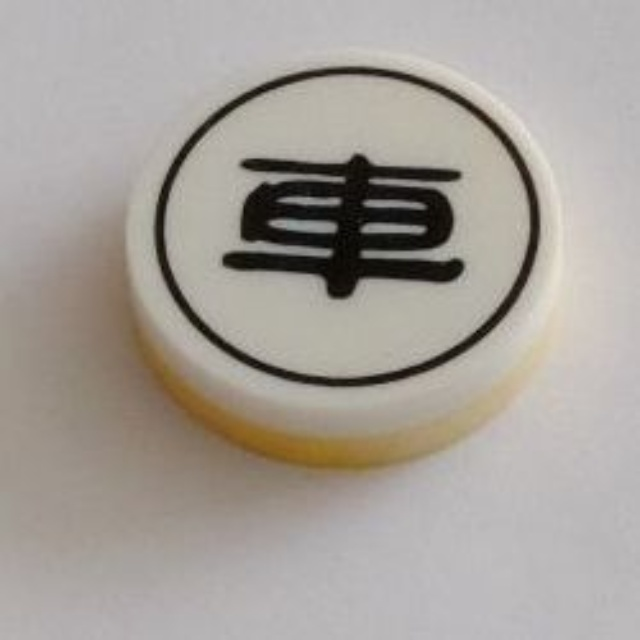black_xe: (115, 43, 573, 489)
